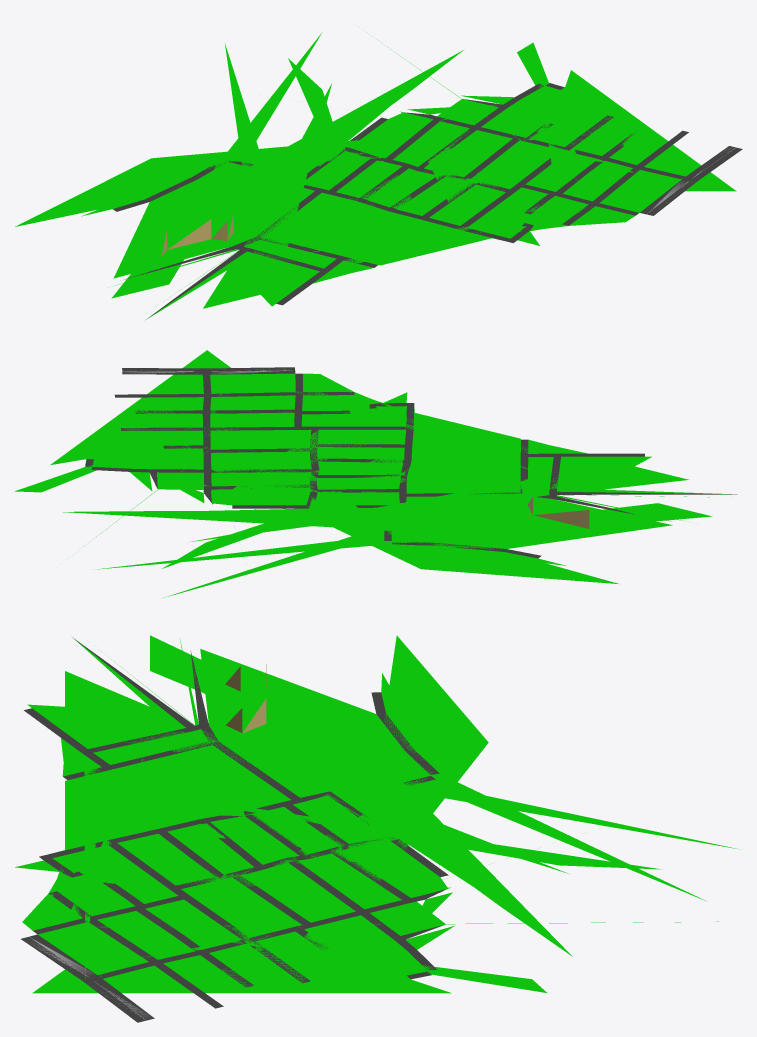
The picture shows the model from 3 angles, top to bottom: view 1: azimuth 30°, elevation 25°; view 2: azimuth 150°, elevation 25°; view 3: azimuth 270°, elevation 25°; orthographic projection. The views are drawn at different scales.
Size of the model in its own units: 325 by 10 by 258.
